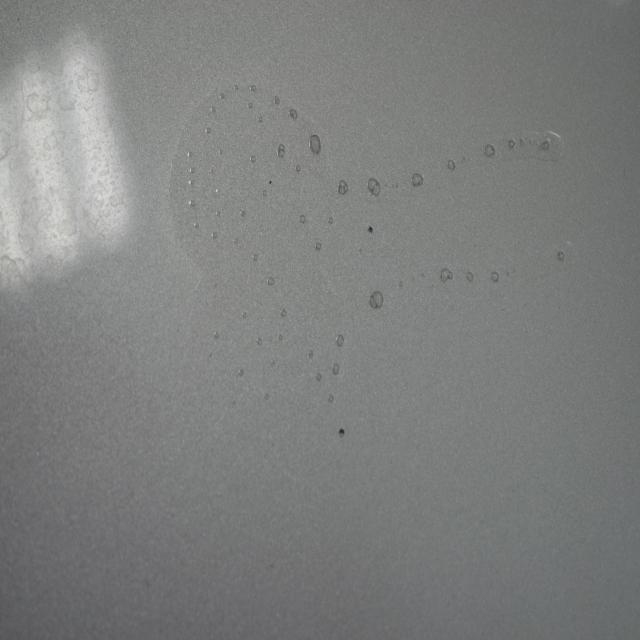dirt: (367, 223, 374, 235), (338, 426, 345, 438)
runs: (172, 84, 573, 441)
water marks: (8, 172, 132, 331), (9, 55, 118, 179)
